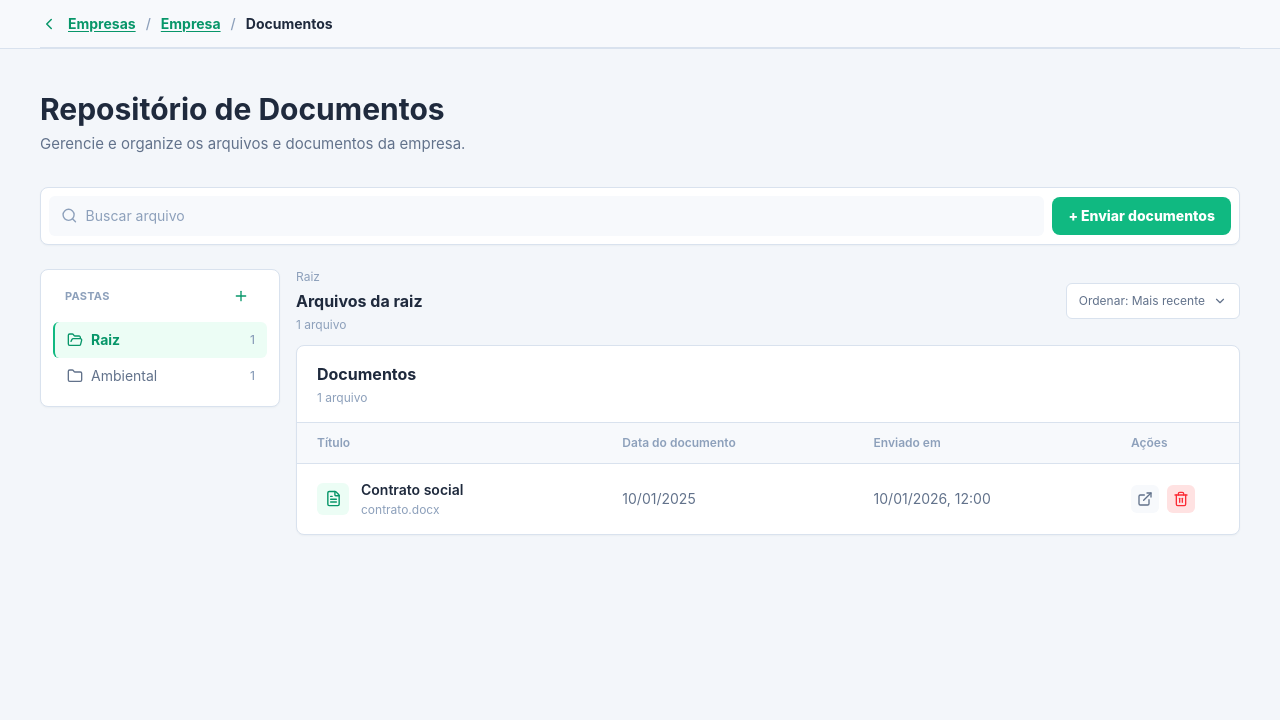
CompanyDocumentsPage › searches files across every folder
Click the button "Ambiental 1" at (160, 376), box [53,358,267,394]
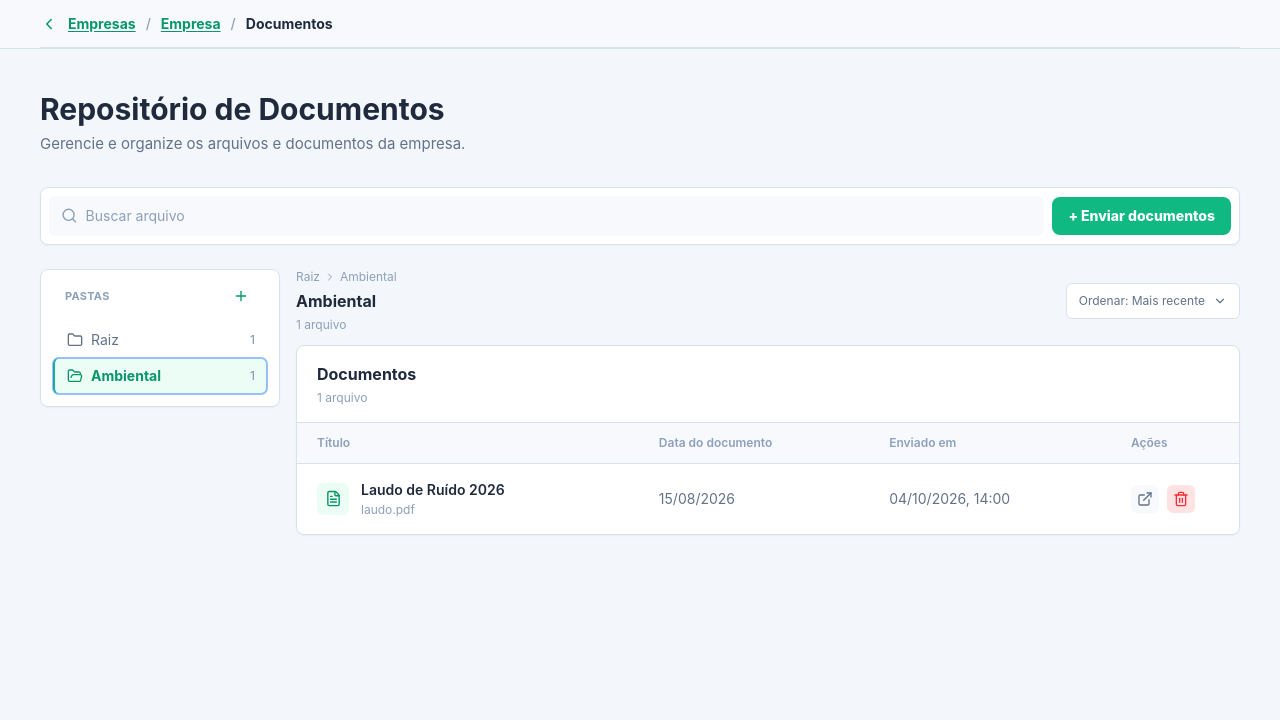
Expected: the text "Contrato social" is gone
Type "contrato" into the field with placeholder "Buscar arquivo" at (559, 216), box [86,206,1032,226]
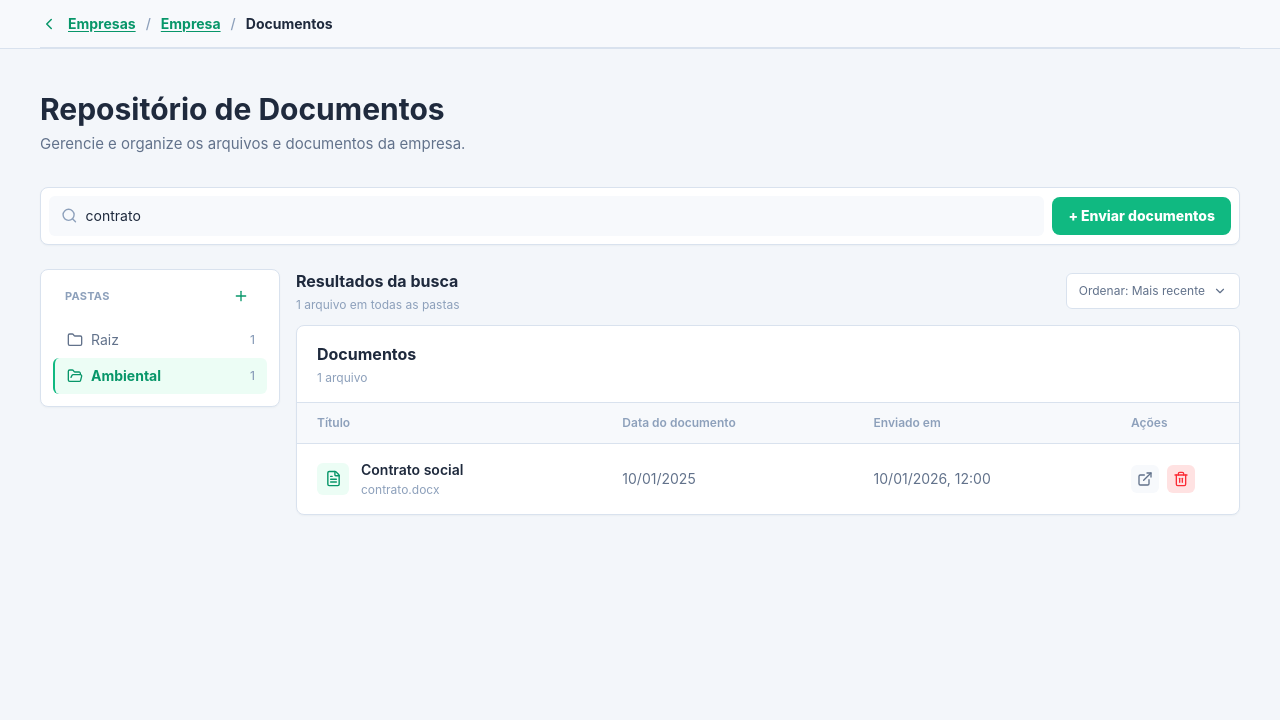
Expected: the text "Contrato social" is shown, [361,460,463,480]
Expected: the text "Laudo de Ruído 2026" is gone
Expected: the heading "Resultados da busca" is shown, [296,269,460,293]
